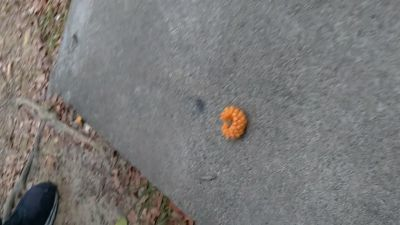eggs: (217, 105, 249, 142)
